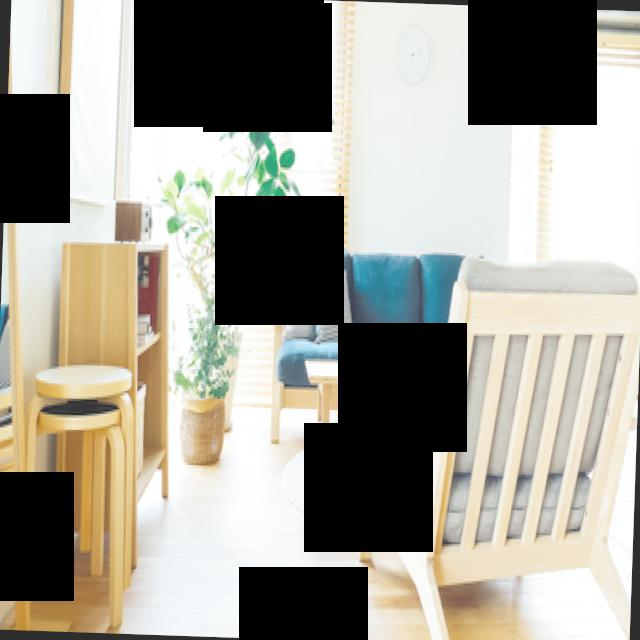natural chair: (347, 246, 640, 640)
